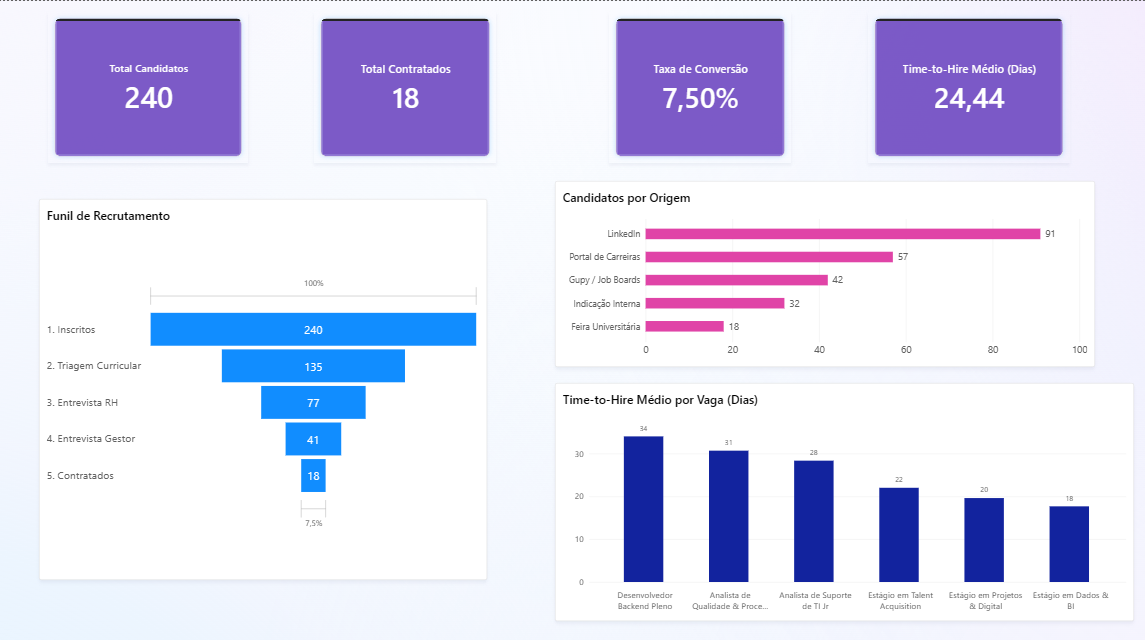

The dashboard page shown, as its layout file describes it:
{"tool":"powerbi","page":{"name":"Página 1","canvas":[1920,1080],"ordinal":0},"visuals":[{"type":"cardVisual","fields":{"Data":["candidaturas_funil.Total Candidatos"]},"box":[84,18,334,252],"z":0},{"type":"cardVisual","fields":{"Data":["candidaturas_funil.Total Candidatos"]},"box":[526,18,304,252],"z":1000},{"type":"cardVisual","fields":{"Data":["candidaturas_funil.Taxa de Conversão"]},"box":[1018,18,304,252],"z":2000},{"type":"cardVisual","fields":{"Data":["candidaturas_funil.Time-to-Hire Médio (Dias)"]},"box":[1450,18,336,252],"z":2001},{"type":"funnel","title":"Funil de Recrutamento","fields":{"Category":["historico_etapas.etapa_funil"],"Y":["CountNonNull(historico_etapas.id_candidatura)"]},"box":[68.3,330,746.7,635],"z":2002},{"type":"barChart","title":"Candidatos por Origem","fields":{"Category":["candidaturas_funil.origem_candidato"],"Y":["candidaturas_funil.Total Candidatos"]},"box":[928,300,900,310],"z":2003},{"type":"columnChart","title":"Time-to-Hire Médio por Vaga (Dias)","fields":{"Category":["candidaturas_funil.vaga"],"Y":["candidaturas_funil.Time-to-Hire Médio (Dias)"]},"box":[928.3,636.7,965,396.7],"z":2004}]}

Visuals, with their boxes in screenshot pixels (x1, y1, x2, y2), scaled from the page's 1920x1080 canvas onto the 1145x640 screenshot:
cardVisual - candidaturas_funil.Total Candidatos: box(50, 11, 249, 160)
cardVisual - candidaturas_funil.Total Candidatos: box(314, 11, 495, 160)
cardVisual - candidaturas_funil.Taxa de Conversão: box(607, 11, 788, 160)
cardVisual - candidaturas_funil.Time-to-Hire Médio (Dias): box(865, 11, 1065, 160)
"Funil de Recrutamento" funnel: box(41, 196, 486, 572)
"Candidatos por Origem" barChart: box(553, 178, 1090, 361)
"Time-to-Hire Médio por Vaga (Dias)" columnChart: box(554, 377, 1129, 612)
